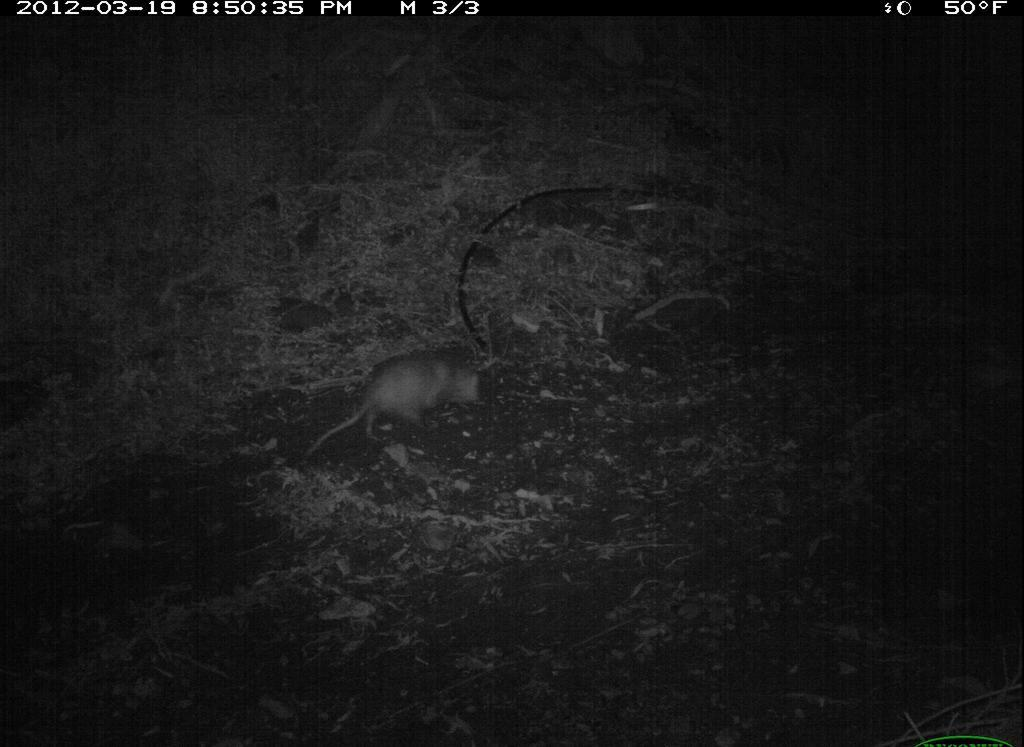opossum: (299, 331, 492, 474)
